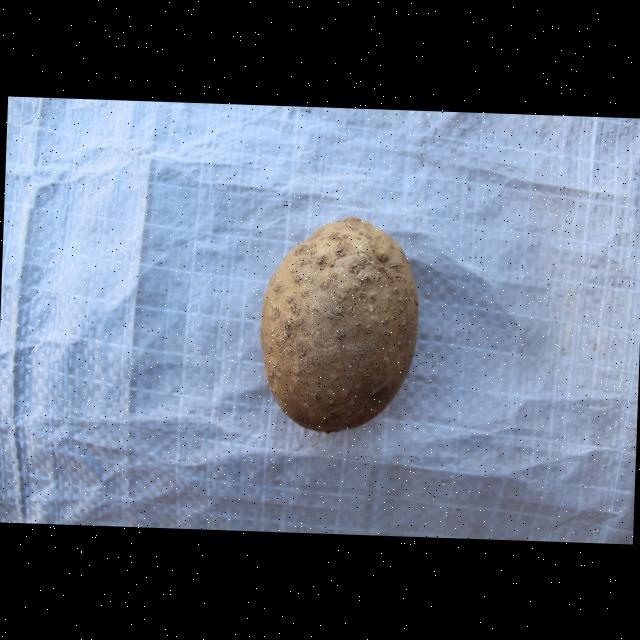Diseased-fungal potato: (254, 212, 426, 438)
